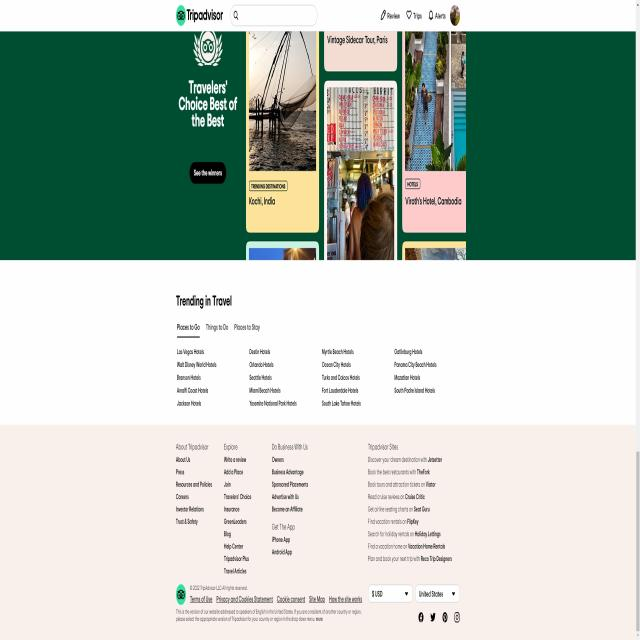menu-bar: (378, 4, 462, 26)
search: (228, 1, 320, 26)
tab-bar: (175, 320, 262, 338)
